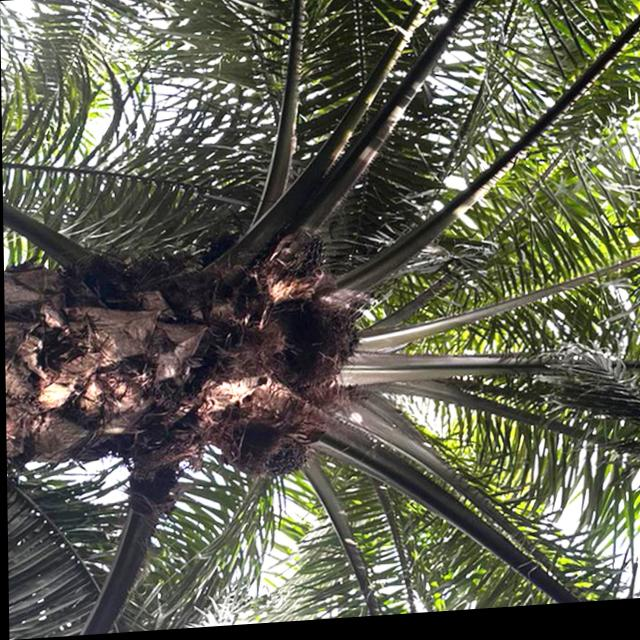unripe: (254, 223, 334, 314), (303, 311, 366, 376), (258, 432, 314, 489)
